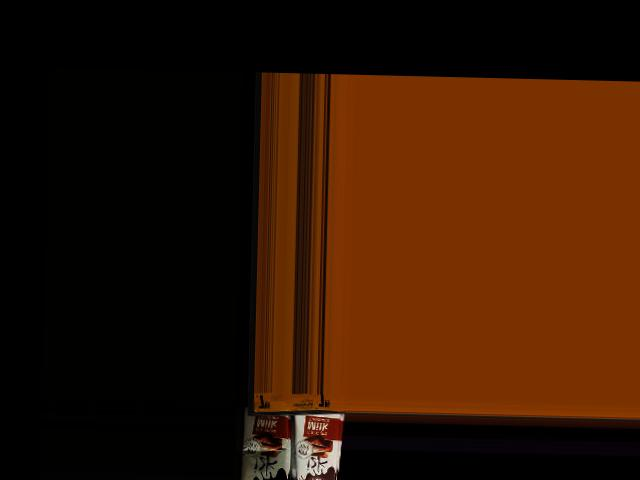chocolate: (293, 403, 348, 480)
